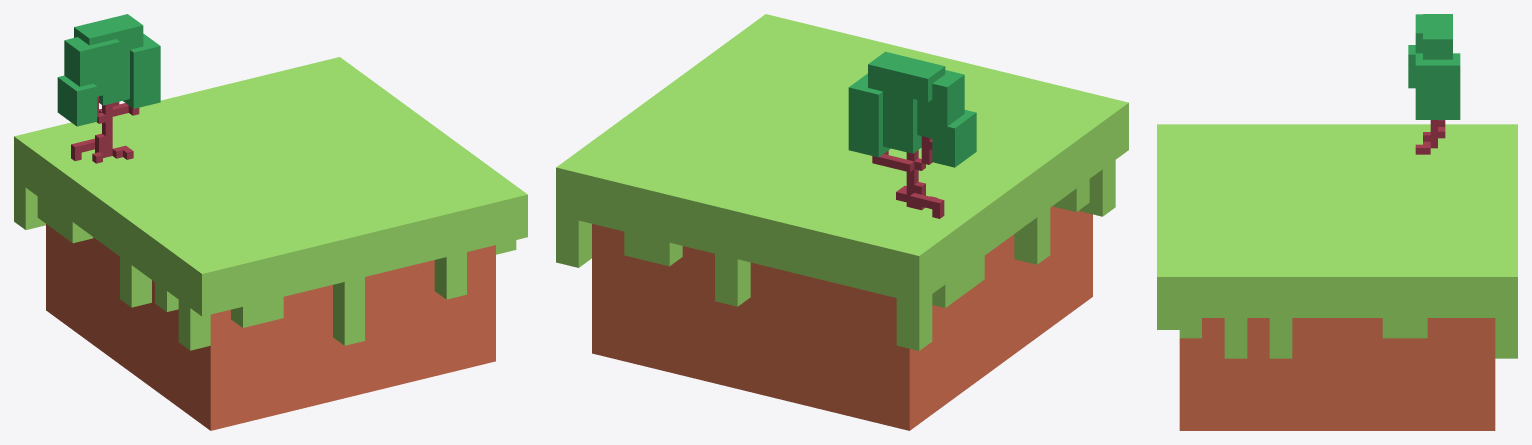
Rendered from island.glb.
3 views of the same model, side by side, from view 1: azimuth 30°, elevation 25°; view 2: azimuth 150°, elevation 25°; view 3: azimuth 270°, elevation 25° (orthographic). The views are drawn at different scales.
Visible parts, largest first — view 1: ObjObject.004, ObjObject; view 2: ObjObject.004, ObjObject; view 3: ObjObject.004, ObjObject.
Part boxes in pixels (box(x1,y1,x2,y2)): ObjObject.004: box(14, 57, 527, 430); ObjObject: box(57, 14, 160, 163); ObjObject.004: box(556, 14, 1128, 430); ObjObject: box(848, 51, 976, 218); ObjObject.004: box(1157, 124, 1517, 430); ObjObject: box(1408, 14, 1460, 154).
Bounding box in the file's own units: 99.54 × 87.06 × 99.54.
Materials: 2 (2 with a texture image).
